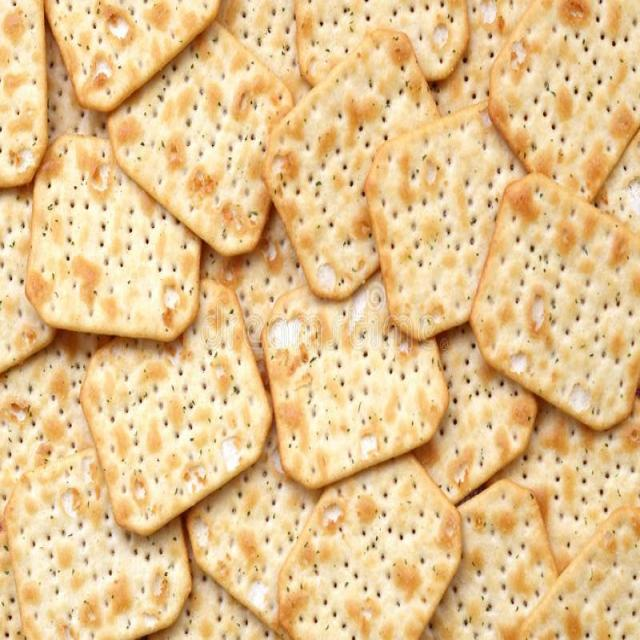Cracker: (70, 278, 273, 539), (12, 122, 216, 352), (253, 28, 436, 282), (470, 172, 640, 440), (256, 273, 471, 475), (267, 442, 462, 640)
